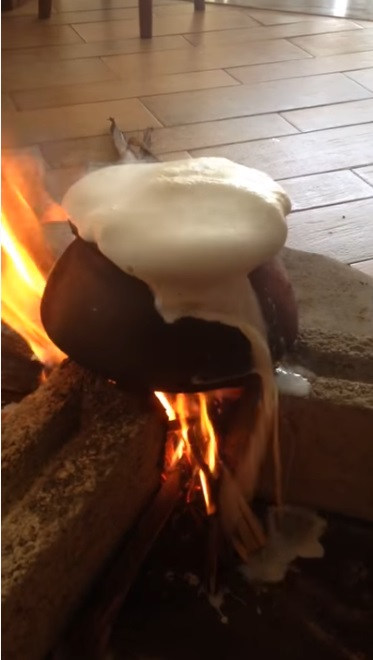Boiled: (70, 153, 308, 386)
